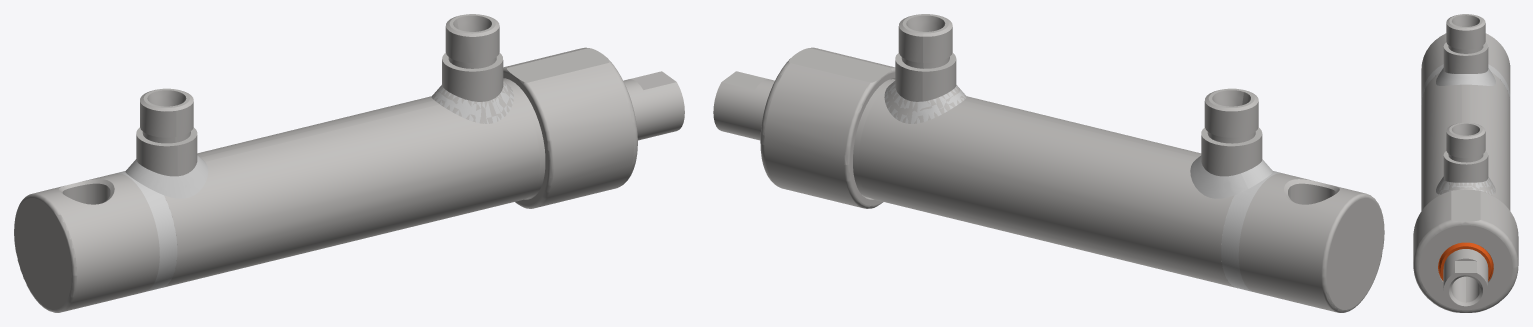
File: inox3d._laranglb.glb
3 renders of one model, left to right at view 1: azimuth 30°, elevation 25°; view 2: azimuth 150°, elevation 25°; view 3: azimuth 270°, elevation 25°, orthographic. The views are drawn at different scales.
Parts seen in each view (by area): view 1: empty_5, empty_8, empty_12, empty_6, empty_7, empty_3, empty_9, empty_2, empty_4; view 2: empty_5, empty_8, empty_12, empty_6, empty_7, empty_3, empty_9, empty_2, empty_4; view 3: empty_12, empty_5, empty_6, empty_7, empty_9, empty_8, empty_3, empty_14, empty_4, empty_2.
Boxes of the visible parts, x1,y1,x2,y2 form: empty_5: [162, 79, 545, 287]; empty_8: [14, 173, 159, 312]; empty_12: [503, 47, 637, 208]; empty_6: [442, 14, 503, 101]; empty_7: [136, 88, 197, 176]; empty_3: [115, 155, 208, 291]; empty_9: [623, 71, 684, 140]; empty_2: [431, 81, 513, 123]; empty_4: [431, 81, 513, 123]; empty_5: [853, 79, 1237, 288]; empty_8: [1238, 173, 1384, 312]; empty_12: [760, 47, 895, 208]; empty_6: [895, 14, 956, 101]; empty_7: [1201, 88, 1262, 176]; empty_3: [1190, 155, 1283, 291]; empty_9: [713, 71, 774, 140]; empty_2: [884, 81, 966, 123]; empty_4: [884, 81, 966, 123]; empty_12: [1413, 190, 1518, 312]; empty_5: [1421, 73, 1510, 210]; empty_6: [1443, 122, 1488, 182]; empty_7: [1443, 14, 1488, 73]; empty_9: [1443, 249, 1488, 308]; empty_8: [1421, 33, 1510, 98]; empty_3: [1421, 64, 1510, 104]; empty_14: [1438, 242, 1493, 281]; empty_4: [1436, 177, 1495, 194]; empty_2: [1436, 176, 1495, 194].
Bounding box in the file's own units: 187 × 53.88 × 37.46.
